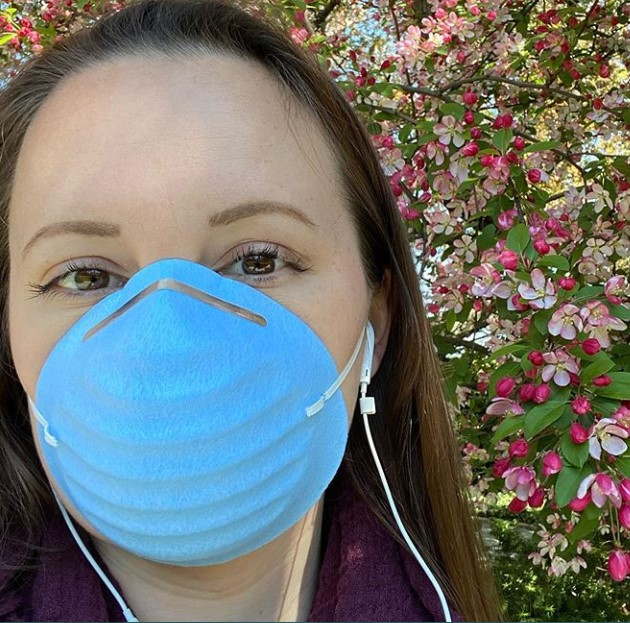face_with_mask: (3, 8, 429, 580)
